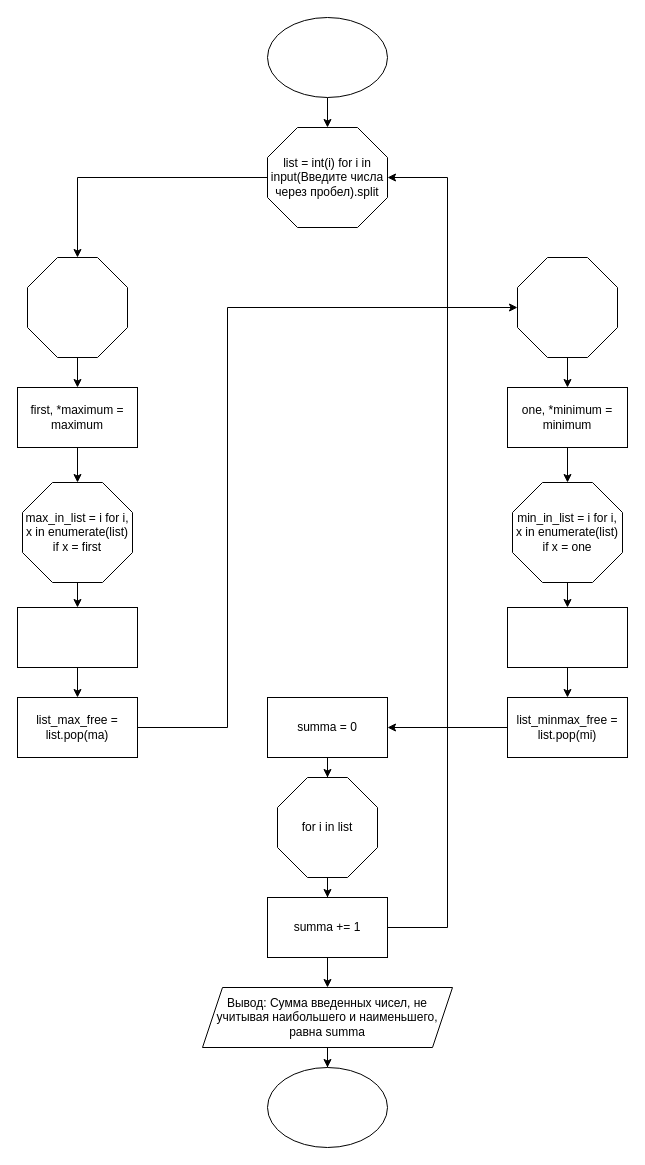
The diagram is 645 pixels wide and 1165 high, and some of its shapes have lost their labels. Each missing label, with the centre of its shape:
i[-1] for i in sorted(list): [77,307]
i[0] for i in sorted(list): [567,307]
ma, *max_in_list = max_in_list: [77,637]
mi, *min_in_list = min_in_list: [567,637]
Конец: [327,1107]
Начало: [327,57]
